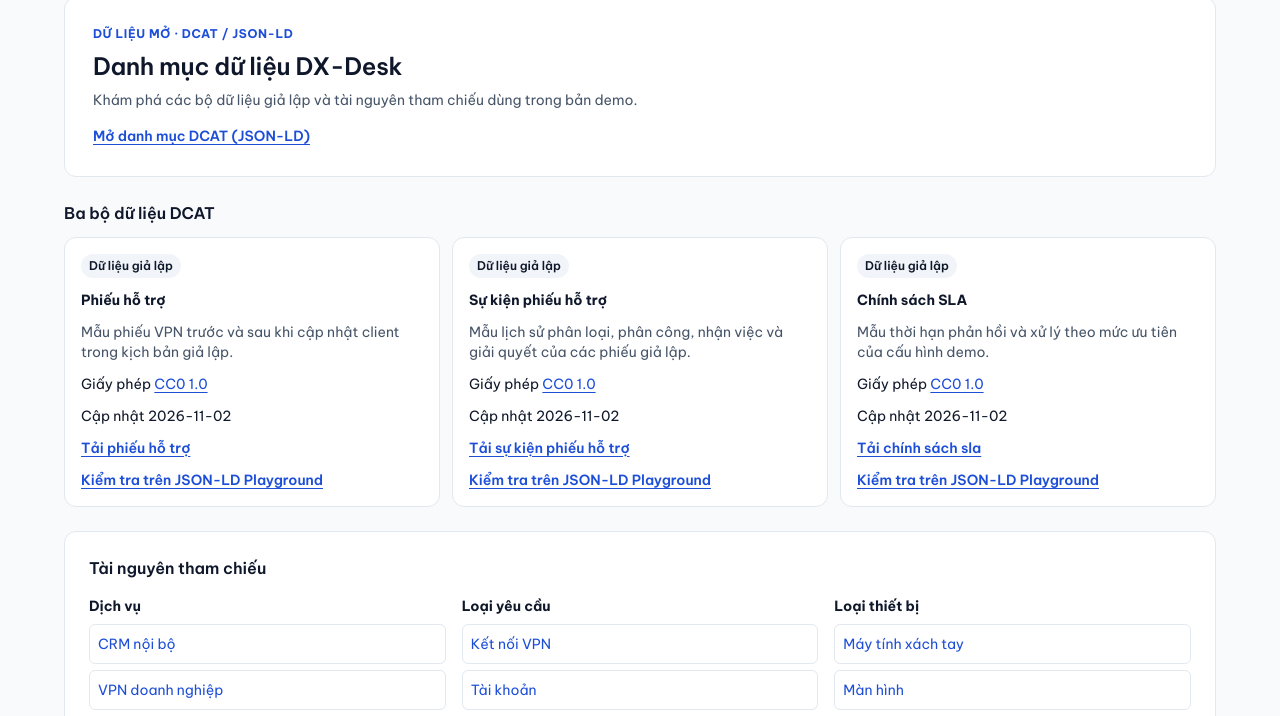
Test: Danh mục dữ liệu công khai › lists live resources and respects a 404 even when an offline sample exists
Check: the button "CRM nội bộ" is shown, box [89,624,446,664]
Check: the button "Phần mềm" is not shown
Click the button "VPN doanh nghiệp" at (161, 690), box [89,670,446,710]
(page scrolled)
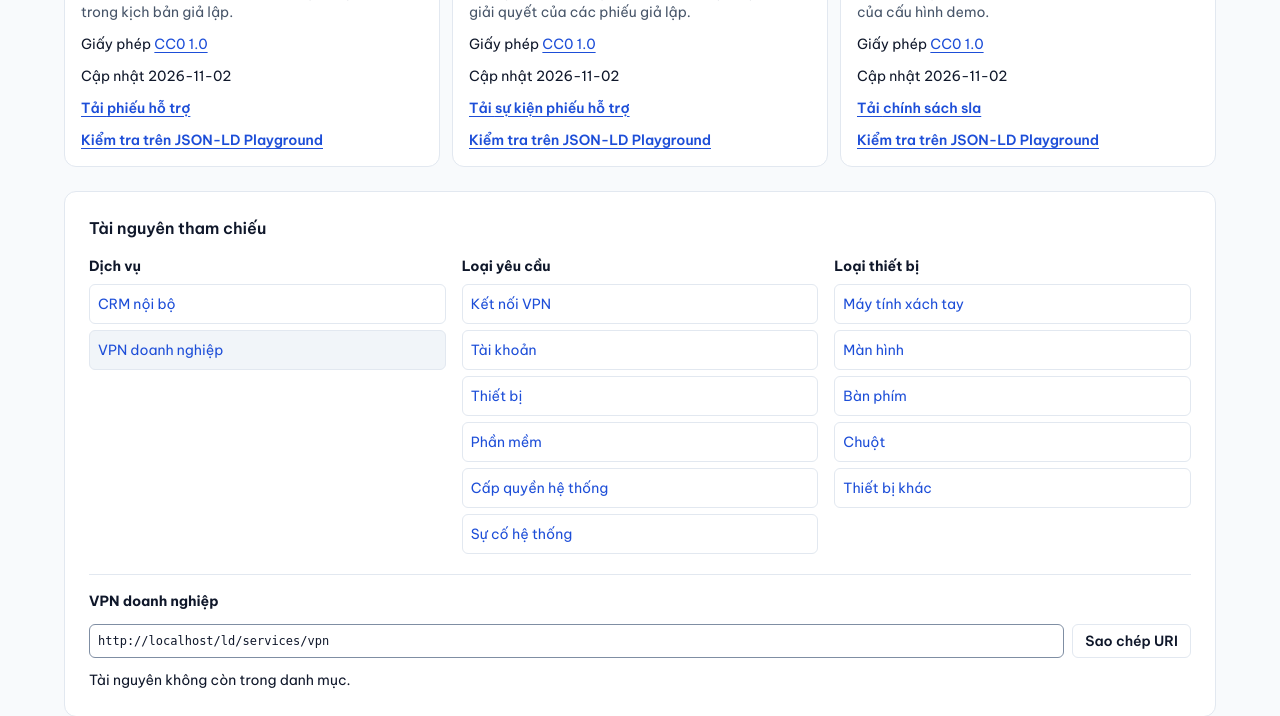
Check: the message reads "Tài nguyên không còn trong danh mục.", box [89,671,351,689]
